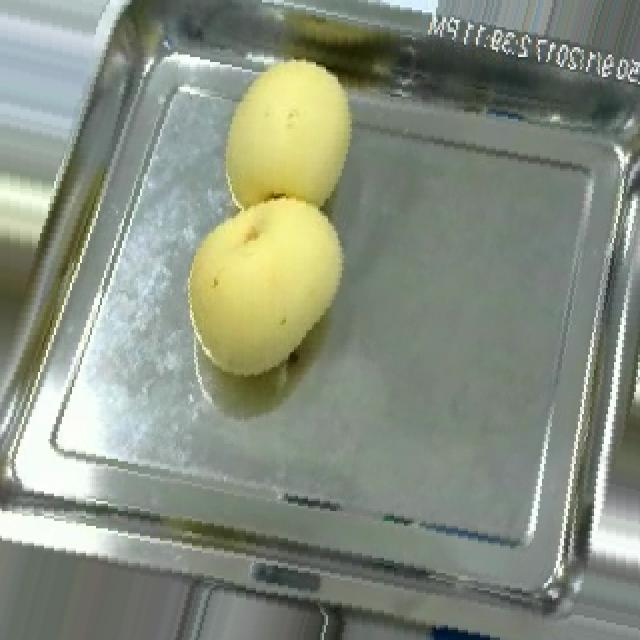Fruit: (164, 183, 366, 400), (198, 37, 376, 233)
